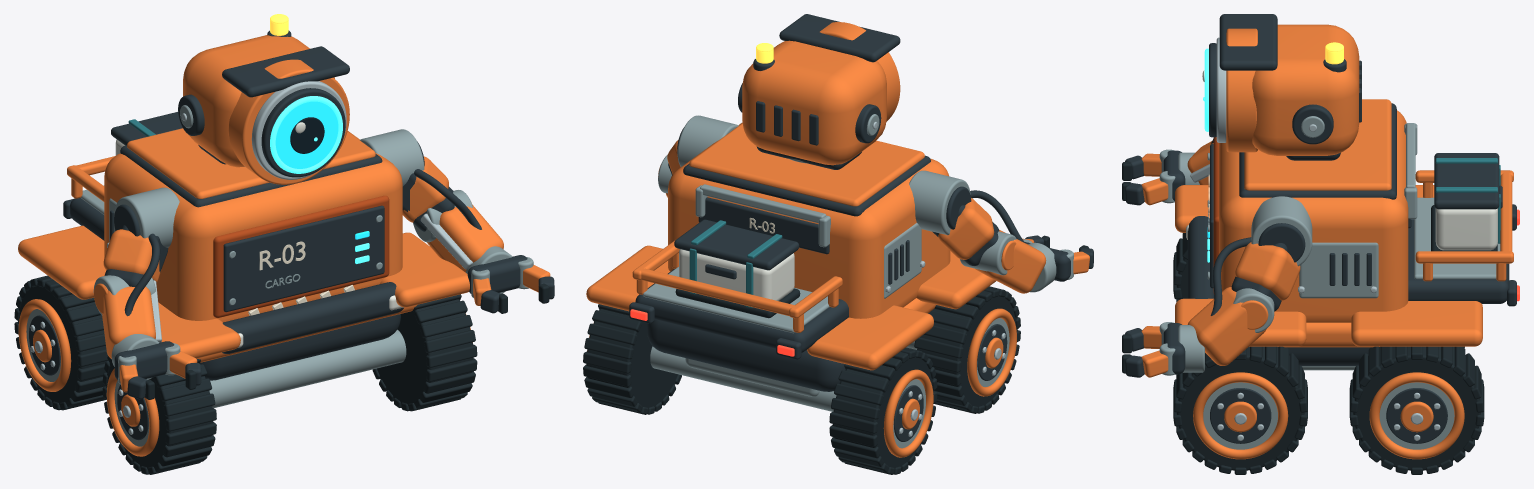
Rendered from robot-r03.glb.
3 views of the same model, side by side, from view 1: azimuth 30°, elevation 25°; view 2: azimuth 150°, elevation 25°; view 3: azimuth 270°, elevation 25° (orthographic). The views are drawn at different scales.
Visible parts, largest first — view 1: Wide enamel torso shell, Front service panel, Optical turret rounded back, Cross axle, Upper deck, Front impact bumper beam, Lower graphite belly, Orange wheel guard.002, Front service-panel rim, Orange wheel guard.001, Chunky pneumatic wheel.001, Single-eye orange housing (+46 smaller); view 2: Wide enamel torso shell, Optical turret rounded back, Upper deck, Lower graphite belly, Orange wheel guard.002, Rear loading bed, Power crate lid, Stored power crate, Chunky pneumatic wheel.003, Rear chest service plate, Eyebrow protective overhang, Torso top dark gasket (+38 smaller); view 3: Wide enamel torso shell, Optical turret rounded back, Upper deck, Orange wheel guard.003, Chunky pneumatic wheel.003, Chunky pneumatic wheel.001, Side inset titanium panel.001, Power crate lid, Strong forearm block.001, Single-eye orange housing, Eyebrow protective overhang, Heavy orange wheel bead.003 (+38 smaller).
Boxes of the visible parts, left/top/right/bottom form: Wide enamel torso shell: left=104, top=131, right=402, bottom=322; Front service panel: left=223, top=205, right=384, bottom=312; Optical turret rounded back: left=183, top=35, right=334, bottom=167; Cross axle: left=209, top=329, right=406, bottom=408; Upper deck: left=127, top=128, right=375, bottom=198; Front impact bumper beam: left=222, top=282, right=403, bottom=353; Lower graphite belly: left=200, top=314, right=400, bottom=380; Orange wheel guard.002: left=18, top=225, right=106, bottom=299; Front service-panel rim: left=213, top=195, right=389, bottom=317; Orange wheel guard.001: left=380, top=232, right=469, bottom=307; Chunky pneumatic wheel.001: left=377, top=299, right=473, bottom=405; Single-eye orange housing: left=228, top=59, right=349, bottom=184; Wide enamel torso shell: left=668, top=122, right=950, bottom=318; Optical turret rounded back: left=742, top=40, right=886, bottom=165; Upper deck: left=689, top=123, right=924, bottom=206; Lower graphite belly: left=647, top=319, right=845, bottom=391; Orange wheel guard.002: left=807, top=305, right=933, bottom=370; Rear loading bed: left=635, top=269, right=848, bottom=352; Power crate lid: left=674, top=219, right=799, bottom=270; Stored power crate: left=679, top=249, right=794, bottom=300; Chunky pneumatic wheel.003: left=586, top=309, right=677, bottom=409; Rear chest service plate: left=698, top=197, right=829, bottom=254; Eyebrow protective overhang: left=779, top=14, right=900, bottom=62; Torso top dark gasket: left=683, top=155, right=930, bottom=216; Wide enamel torso shell: left=1219, top=110, right=1408, bottom=322; Optical turret rounded back: left=1252, top=24, right=1359, bottom=155; Upper deck: left=1244, top=99, right=1391, bottom=190; Orange wheel guard.003: left=1351, top=301, right=1482, bottom=346; Chunky pneumatic wheel.003: left=1353, top=346, right=1480, bottom=470; Chunky pneumatic wheel.001: left=1176, top=346, right=1304, bottom=470; Side inset titanium panel.001: left=1299, top=242, right=1378, bottom=298; Power crate lid: left=1434, top=153, right=1499, bottom=209; Strong forearm block.001: left=1187, top=287, right=1266, bottom=365; Single-eye orange housing: left=1226, top=28, right=1257, bottom=152; Eyebrow protective overhang: left=1219, top=14, right=1277, bottom=70; Heavy orange wheel bead.003: left=1369, top=372, right=1464, bottom=459.
Size of the model in its own units: 3.41 by 2.85 by 2.75.
